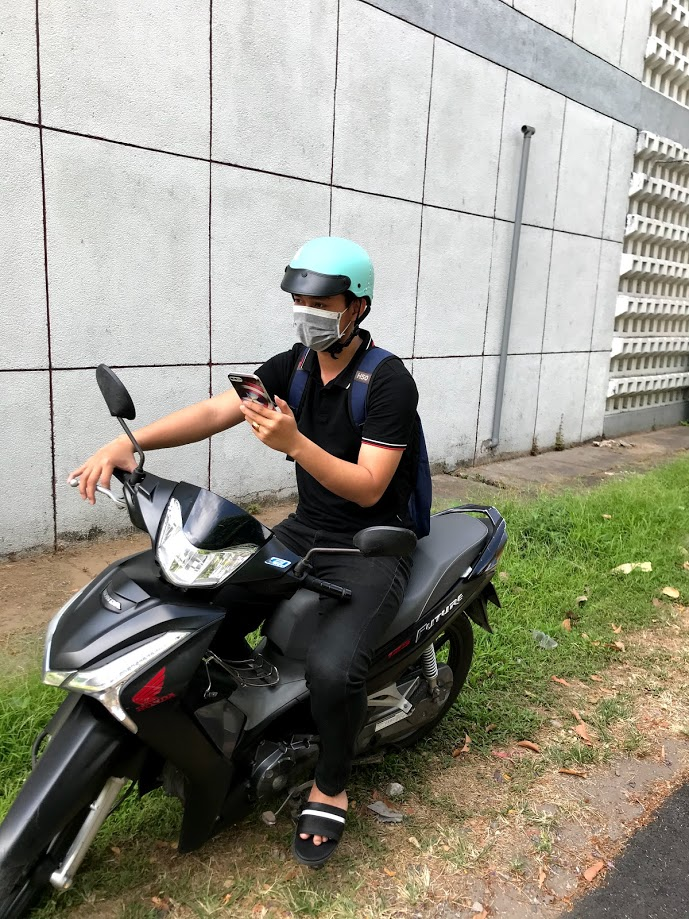dieu khien xe may: (43, 232, 419, 733)
su dung dien thoai: (228, 236, 373, 441)
